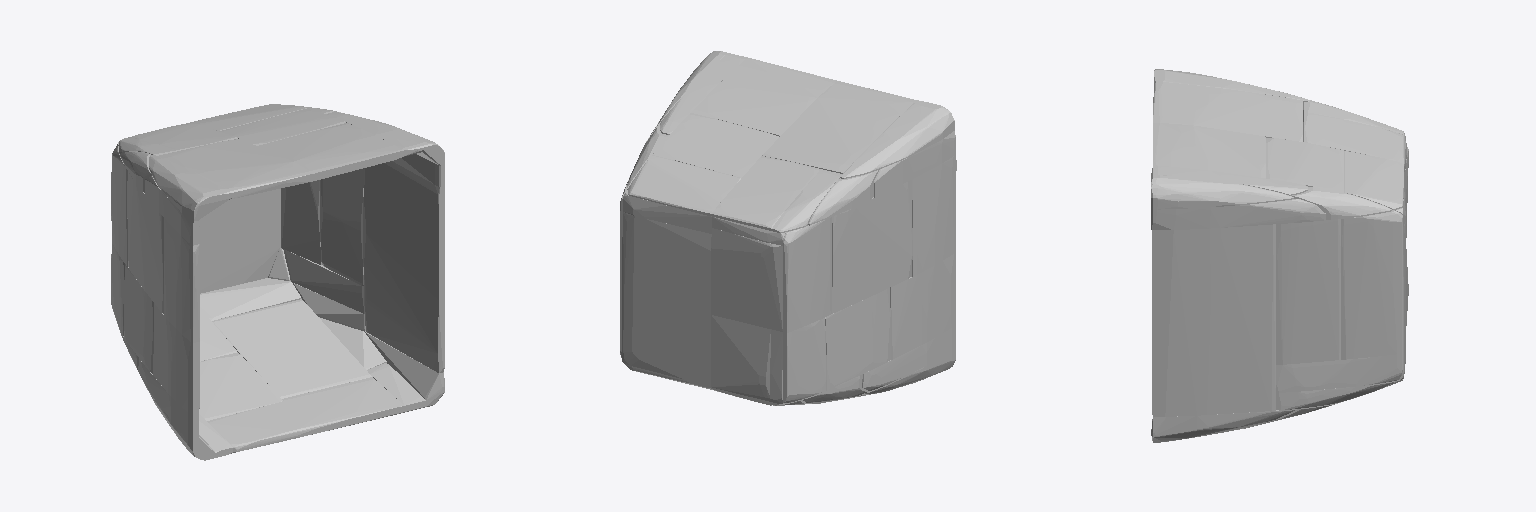
The model's file is model_2eZY2JqYPQE_vhacd.obj.
The picture shows the model from 3 angles: view 1: azimuth 30°, elevation 25°; view 2: azimuth 150°, elevation 25°; view 3: azimuth 270°, elevation 25°; orthographic projection.
Visible parts, largest first — view 1: convex_11, convex_8, convex_9, convex_12, convex_6, convex_15, convex_41, convex_22, convex_3, convex_27, convex_0, convex_40 (+23 smaller); view 2: convex_12, convex_27, convex_6, convex_15, convex_4, convex_26, convex_0, convex_25, convex_43, convex_33, convex_2, convex_3 (+15 smaller); view 3: convex_11, convex_41, convex_40, convex_6, convex_15, convex_14, convex_39, convex_43, convex_34, convex_33, convex_42, convex_10 (+5 smaller).
Boxes of the visible parts, box(x1,y1,x2,y2) form: convex_11: box(363, 161, 444, 372); convex_8: box(212, 299, 371, 398); convex_9: box(207, 377, 404, 452); convex_12: box(199, 189, 280, 293); convex_6: box(158, 139, 313, 198); convex_15: box(258, 123, 402, 180); convex_41: box(320, 168, 363, 285); convex_22: box(199, 352, 282, 420); convex_3: box(164, 218, 199, 342); convex_27: box(127, 172, 163, 313); convex_0: box(153, 303, 199, 415); convex_40: box(281, 180, 321, 264); convex_12: box(622, 212, 711, 385); convex_27: box(832, 180, 912, 313); convex_6: box(763, 81, 916, 173); convex_15: box(691, 58, 836, 136); convex_4: box(711, 228, 782, 331); convex_26: box(783, 217, 831, 332); convex_0: box(890, 253, 955, 359); convex_25: box(825, 288, 890, 389); convex_43: box(653, 113, 778, 177); convex_33: box(712, 156, 821, 230); convex_2: box(711, 315, 770, 401); convex_3: box(912, 155, 956, 276); convex_11: box(1152, 224, 1275, 416); convex_41: box(1276, 219, 1340, 364); convex_40: box(1341, 210, 1402, 359); convex_6: box(1153, 82, 1302, 141); convex_15: box(1153, 123, 1265, 177); convex_14: box(1151, 199, 1325, 229); convex_39: box(1276, 353, 1402, 392); convex_43: box(1266, 138, 1343, 192); convex_34: box(1151, 175, 1293, 209); convex_33: box(1304, 112, 1403, 163); convex_42: box(1344, 151, 1403, 209); convex_10: box(1151, 409, 1296, 442).
Bounding box in the file's own units: 0.1913 × 0.1913 × 0.1694.